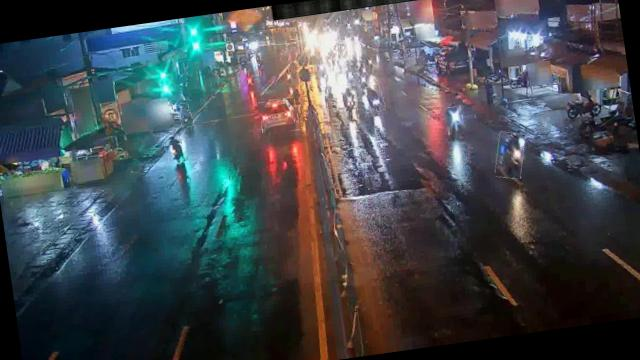Bike: (492, 130, 528, 181), (339, 84, 360, 121), (163, 134, 186, 164), (364, 83, 386, 112), (444, 106, 464, 136), (176, 102, 193, 128)
Car: (258, 95, 299, 134)
